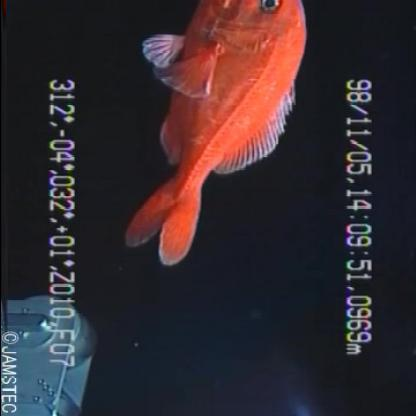Rov: (2, 290, 105, 415)
